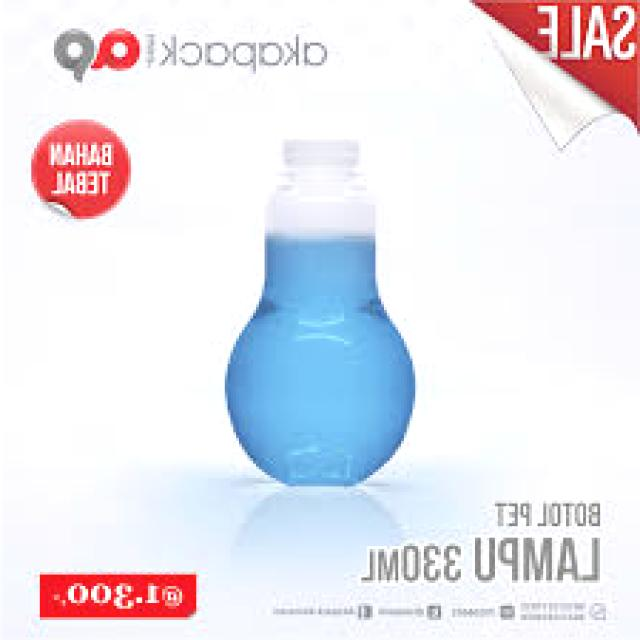bottle: (188, 130, 433, 487)
